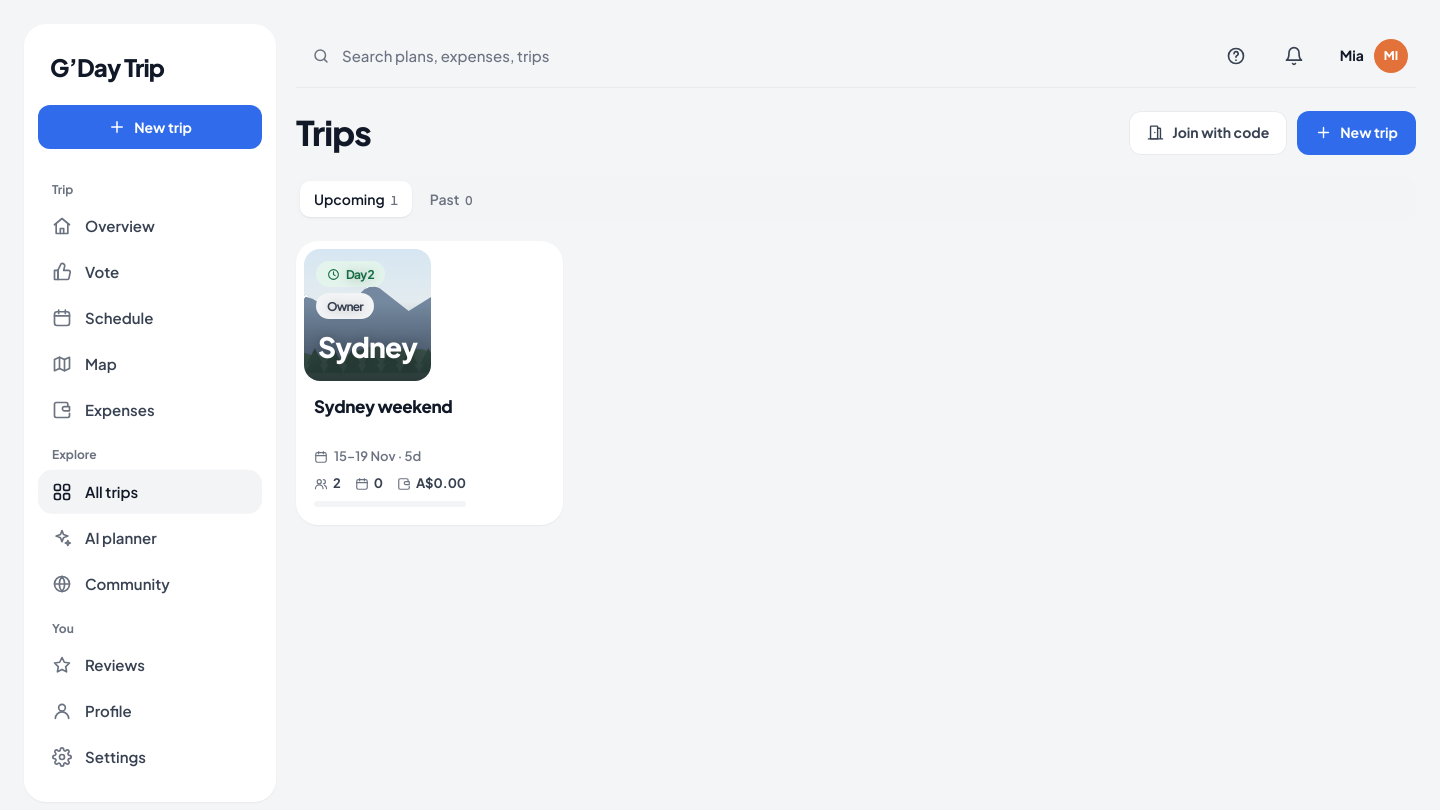
Scenario: Failed requests › Notifications: a failed invitations check isn't shown as 'All caught up'
Check: the navigation bar with id "auth" is shown, box x1=38 y1=470 x2=262 y2=514
Step 1. Click the button named "Notifications" → (1294, 56), box x1=1272 y1=34 x2=1316 y2=78
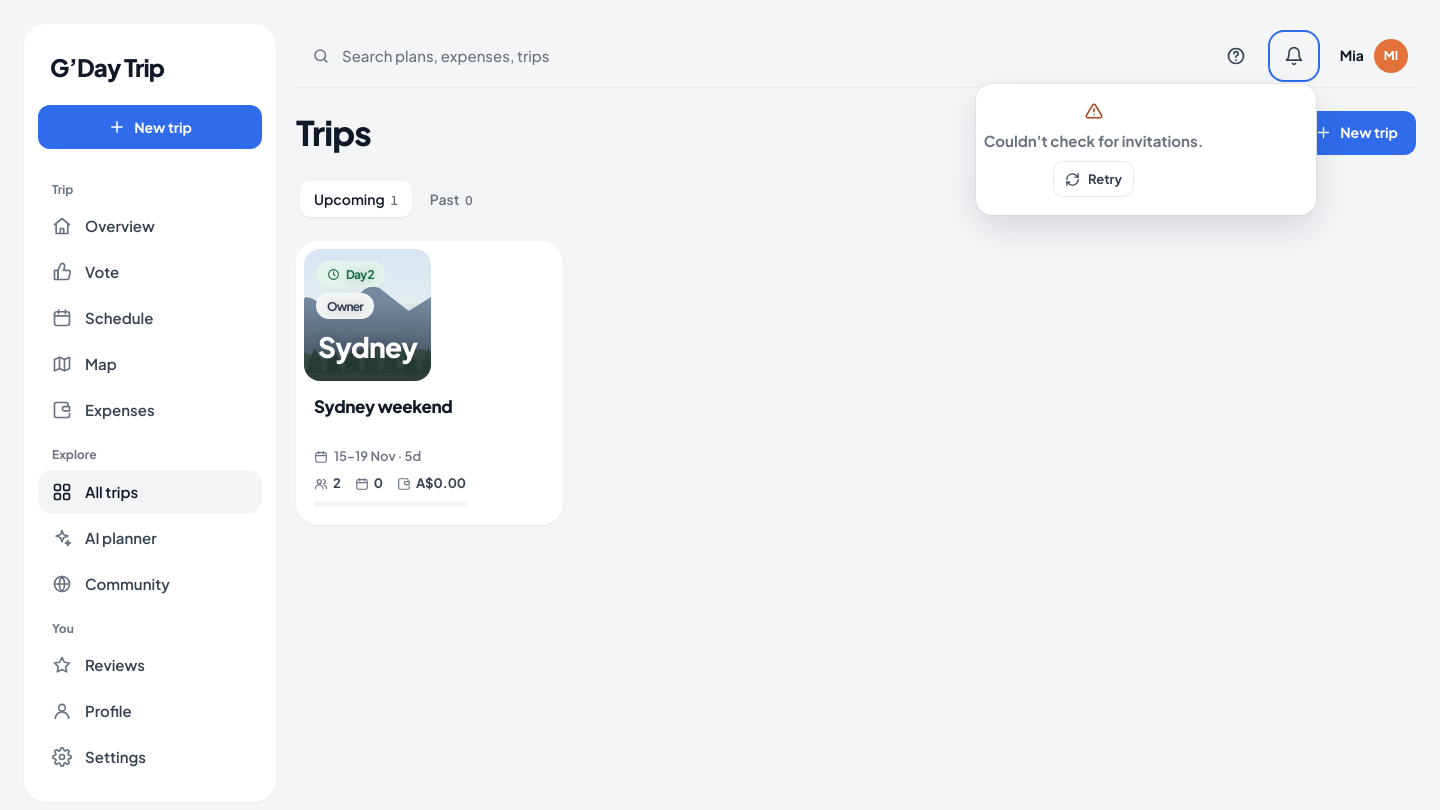
Check: the text "Couldn't check for invitations." is shown, box x1=984 y1=130 x2=1203 y2=151
